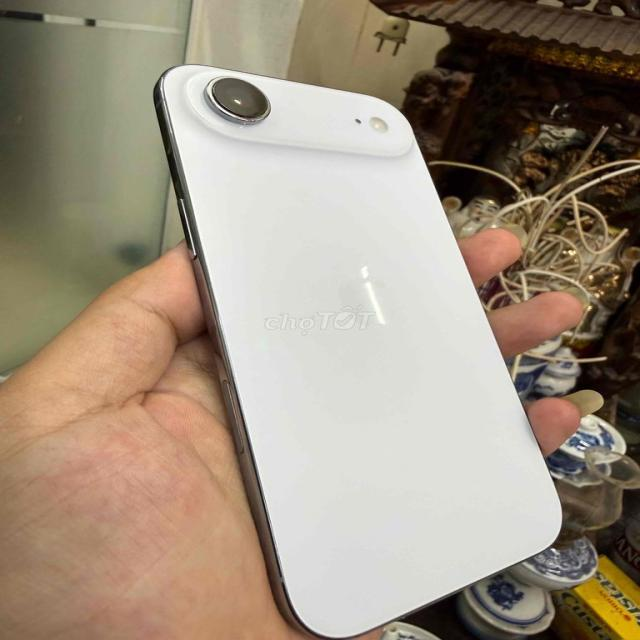gen_17: (157, 43, 577, 614)
